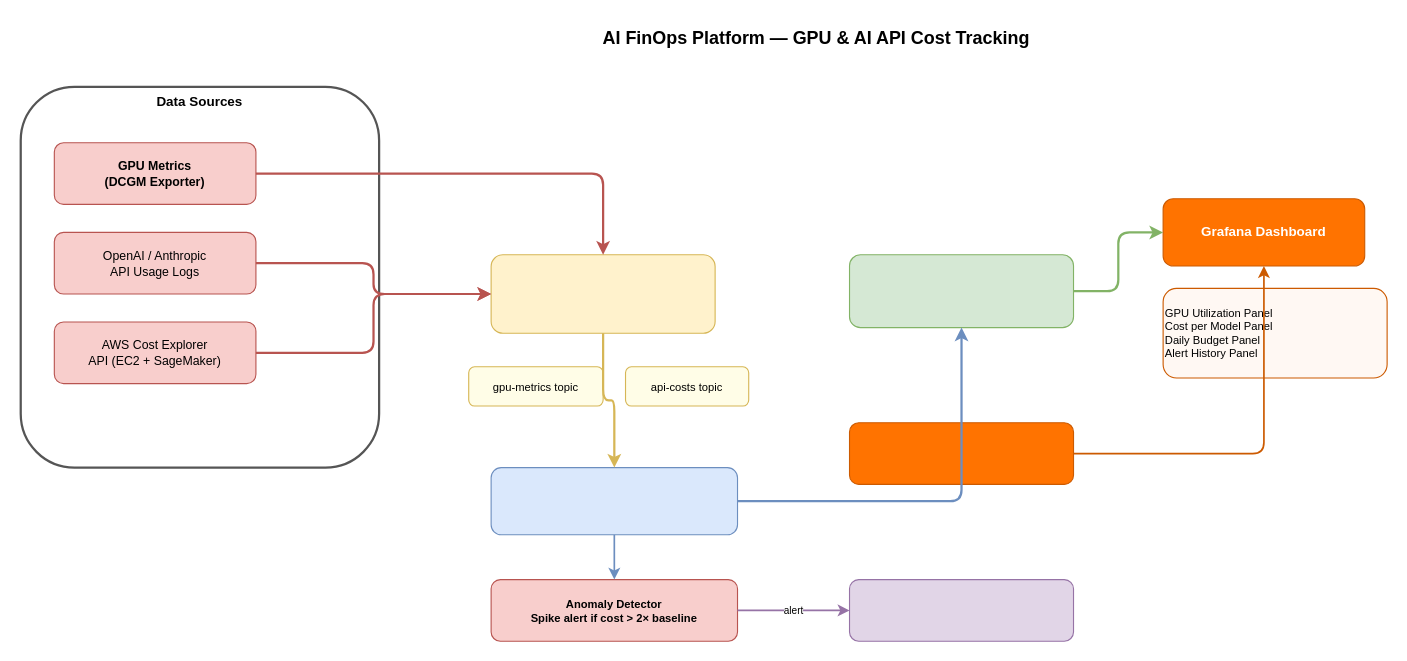
Some shapes in this 1407 by 661 pixel diagram are drawn without their labels. The centre of each missing label's shape, as x and y in pixels:
Apache Kafka (Event Streaming): (x=602, y=293)
Prometheus (scrapes DCGM metrics): (x=961, y=453)
Slack Alerts (budget threshold breach): (x=961, y=609)
Stream Processor (Python — Kafka Consumer): (x=614, y=500)
TimescaleDB (metrics + cost time-series): (x=961, y=291)
